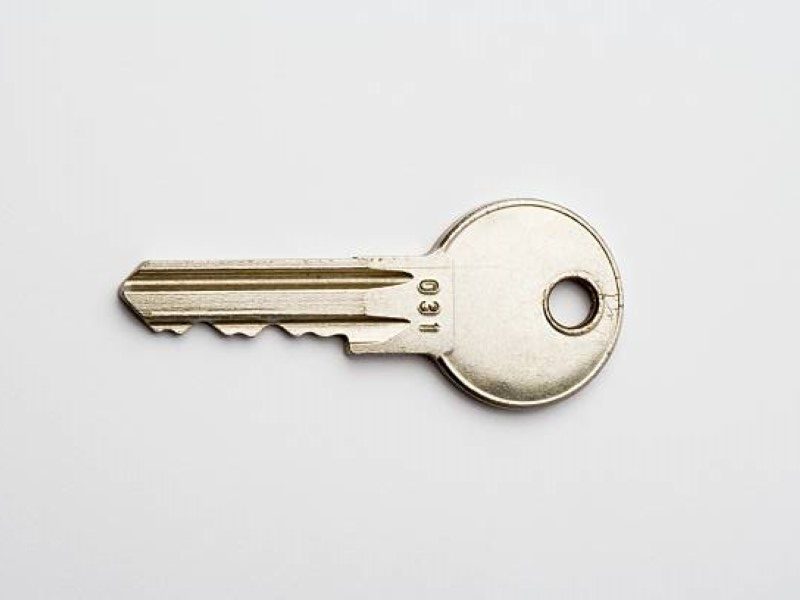key: (111, 196, 627, 427)
